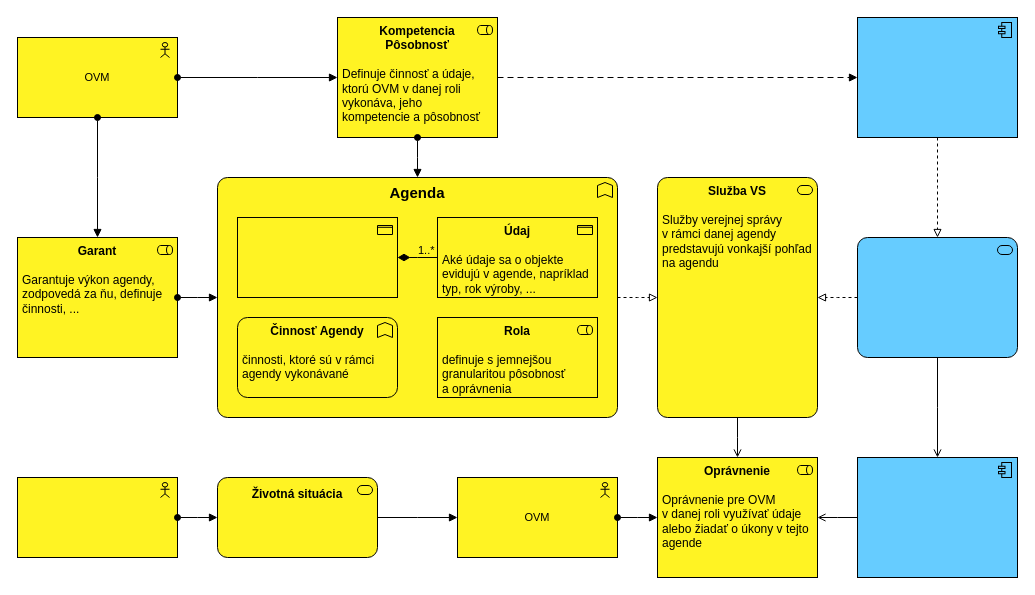
This 1035x595 diagram has some shape labels left out. The centre of each missing label's shape, as x and y in pixels:
"Aplikačná služba realizuje prístup k údajom a službám agendy" belongs at pixel 937 297.
"IS VS IS ktorý OVM využíva na získavanie údajov a volanie služieb cudzej agendy" belongs at pixel 937 517.
"IS VS IS v ktorom OVM spravuje údaje, vykonáva svoju pôsobnosť v danej agende" belongs at pixel 937 77.
"Objekt evidencie Aké objekty sa evidujú v agende, napríklad auto" belongs at pixel 317 257.
"Občan / FO / PO" belongs at pixel 97 517.
